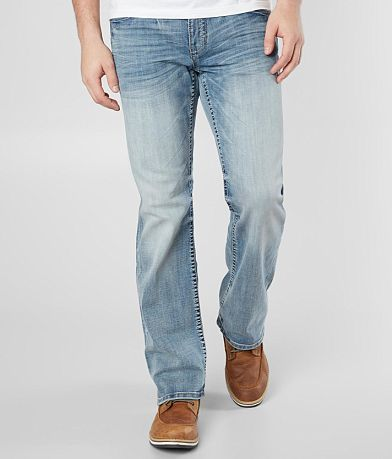jeans: (102, 12, 304, 378)
